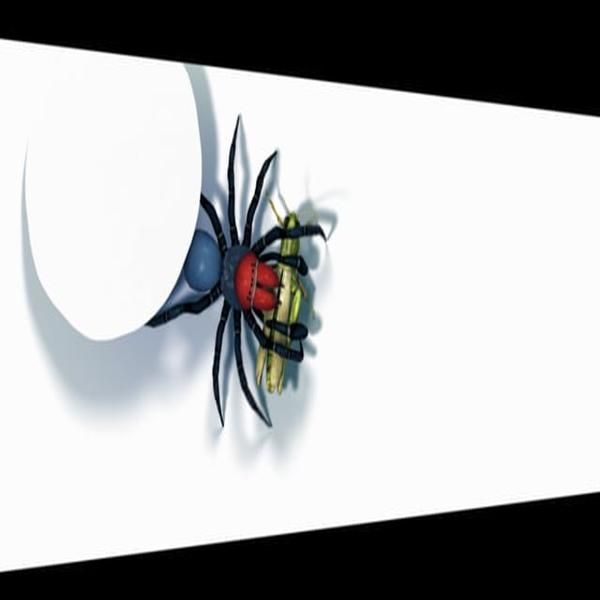Red Headed Mouse Spider: (154, 120, 324, 428)
